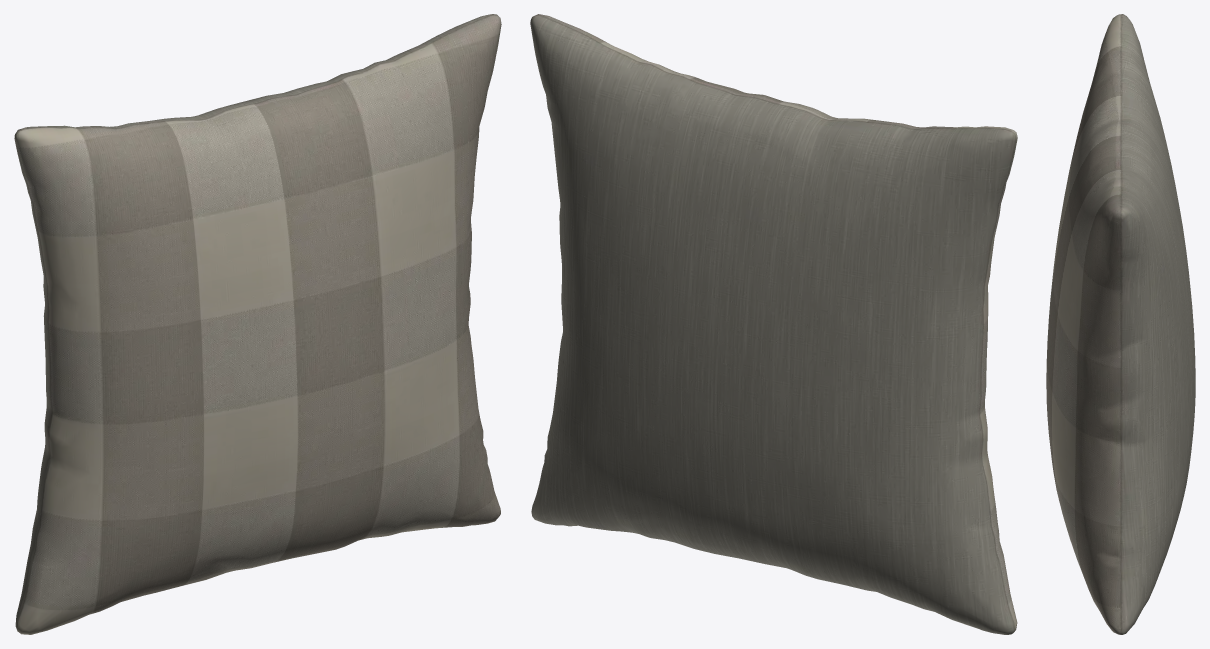
Rendered from B07BMQXWX1.glb.
The picture shows the model from 3 angles, left to right: view 1: azimuth 30°, elevation 25°; view 2: azimuth 150°, elevation 25°; view 3: azimuth 270°, elevation 25°; orthographic projection. The views are drawn at different scales.
Parts seen in each view (by area): view 1: RootNode; view 2: RootNode; view 3: RootNode.
Boxes of the visible parts, <box> form: RootNode: <box>14,14,501,634</box>; RootNode: <box>530,14,1017,634</box>; RootNode: <box>1046,14,1195,634</box>.
Bounding box in the file's own units: 0.5109 × 0.5087 × 0.1613.
1 material, 1 textured.
